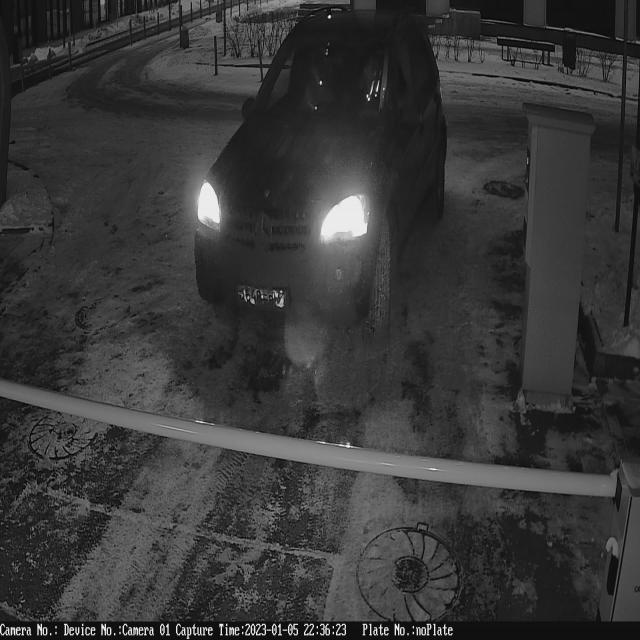car-plate-numbers: (234, 278, 288, 316)
